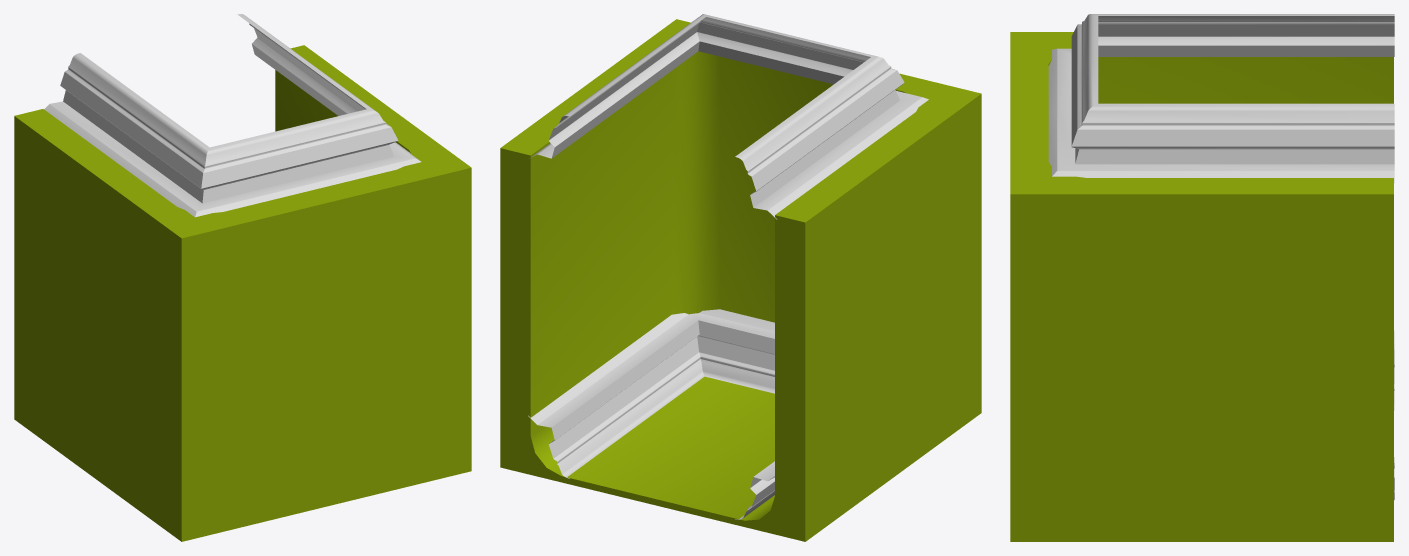
The model's file is Tileset_Piece_1.fbx.
The picture shows the model from 3 angles, left to right: view 1: azimuth 30°, elevation 25°; view 2: azimuth 150°, elevation 25°; view 3: azimuth 270°, elevation 25°; orthographic projection. The views are drawn at different scales.
Visible parts, largest first — view 1: Tileset_Piece_1; view 2: Tileset_Piece_1; view 3: Tileset_Piece_1.
Boxes of the visible parts, x1,y1,x2,y2 form: Tileset_Piece_1: (14,14,471,541); Tileset_Piece_1: (500,14,981,541); Tileset_Piece_1: (1010,14,1394,541).
Size of the model in its own units: 100 by 115 by 100.
